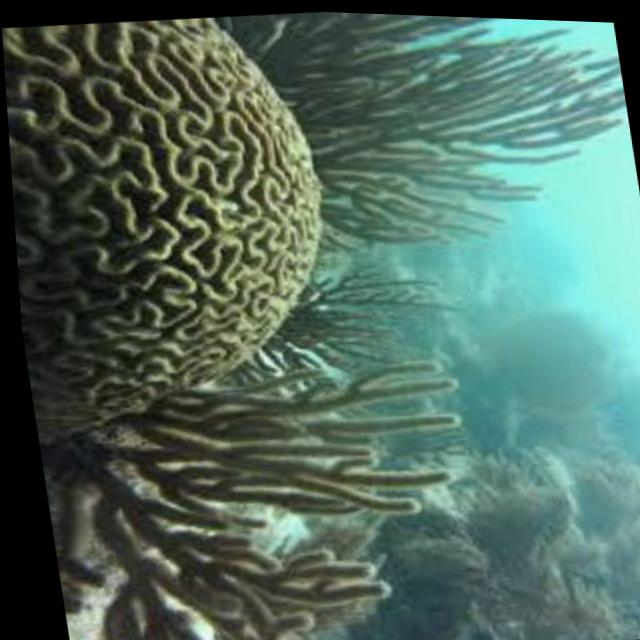Healthy Coral: (0, 8, 349, 434)
